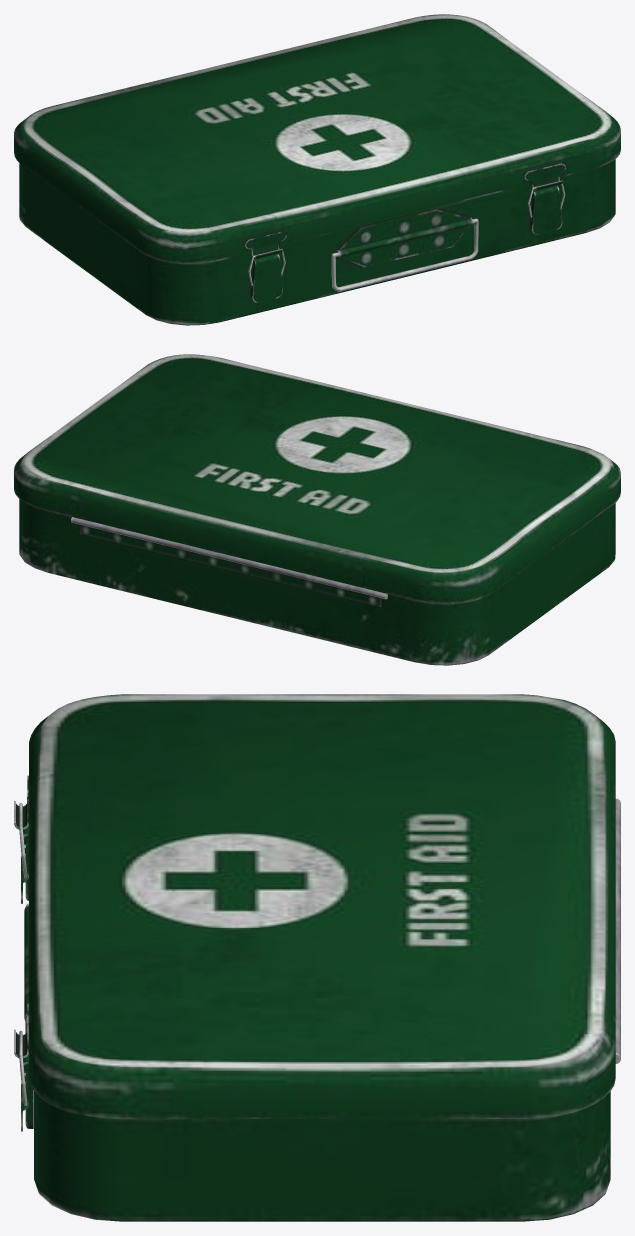
File: medical_box.glb
The picture shows the model from 3 angles, top to bottom: view 1: azimuth 30°, elevation 25°; view 2: azimuth 150°, elevation 25°; view 3: azimuth 270°, elevation 25°; orthographic projection. The views are drawn at different scales.
Visible parts, largest first — view 1: medical_box_lid, medical_box, medical_box_latch, medical_box_handle; view 2: medical_box_lid, medical_box; view 3: medical_box_lid, medical_box.
Part boxes in pixels (bbox=[...]): medical_box_lid: bbox=[14, 14, 620, 263]; medical_box: bbox=[19, 159, 615, 325]; medical_box_latch: bbox=[251, 185, 562, 302]; medical_box_handle: bbox=[331, 218, 478, 291]; medical_box_lid: bbox=[14, 354, 620, 603]; medical_box: bbox=[19, 499, 615, 665]; medical_box_lid: bbox=[14, 694, 615, 1118]; medical_box: bbox=[24, 798, 620, 1221].
Bounding box in the file's own units: 0.5255 × 0.0975 × 0.3502.
Materials: 1 (1 with a texture image).
